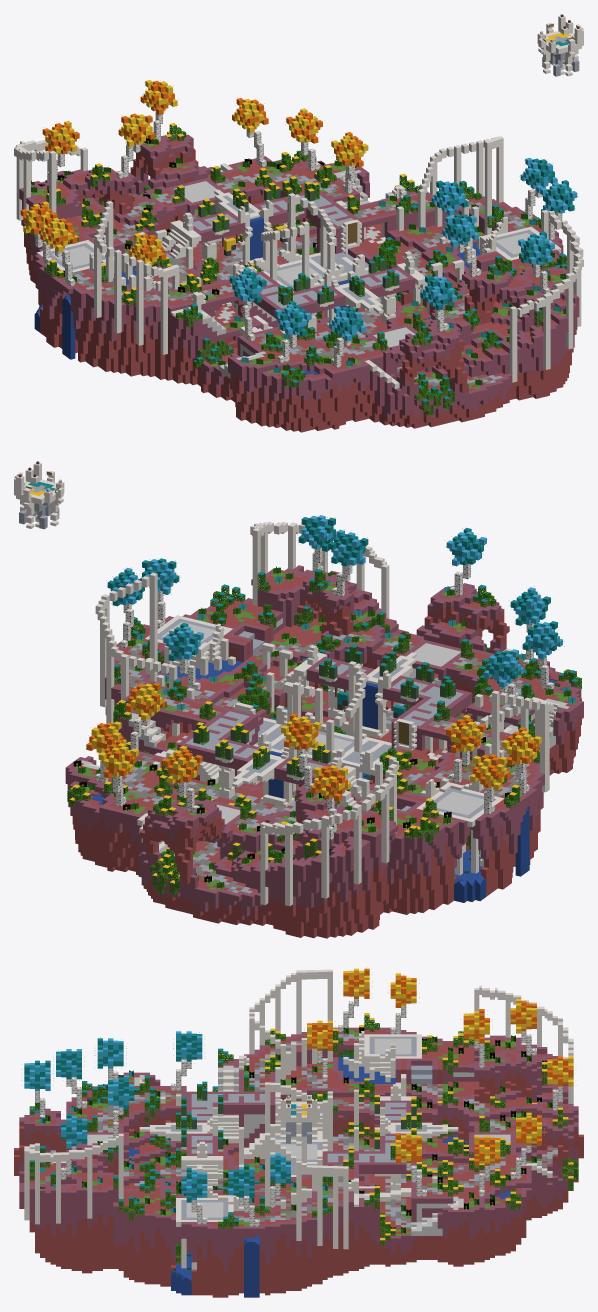
Rendered from minecraft.obj.
The picture shows the model from 3 angles, top to bottom: view 1: azimuth 30°, elevation 25°; view 2: azimuth 150°, elevation 25°; view 3: azimuth 270°, elevation 25°; orthographic projection. The views are drawn at different scales.
Bounding box in the file's own units: 109 × 48.38 × 109.
